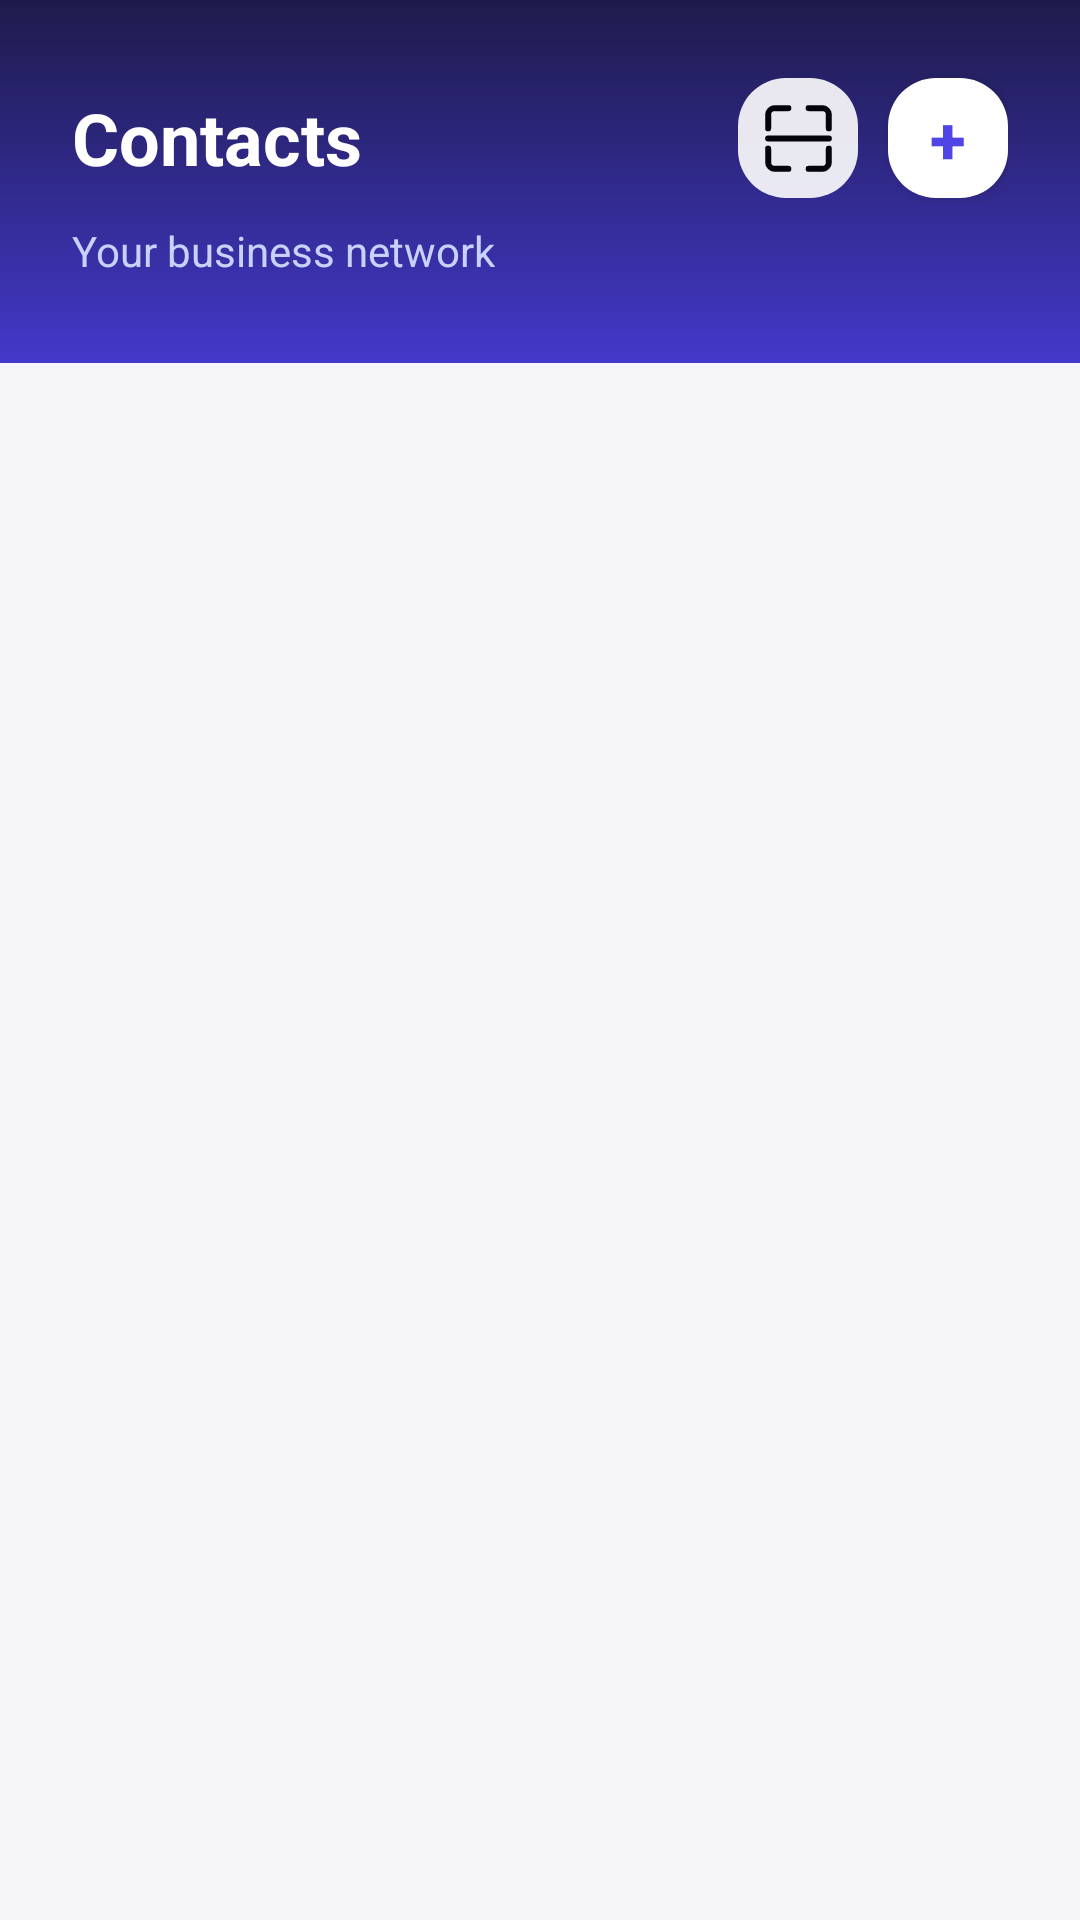

Where to tap for icons on this 1080px x 1920px app screen, as (x,y):
Scan QR code: (798,138)
